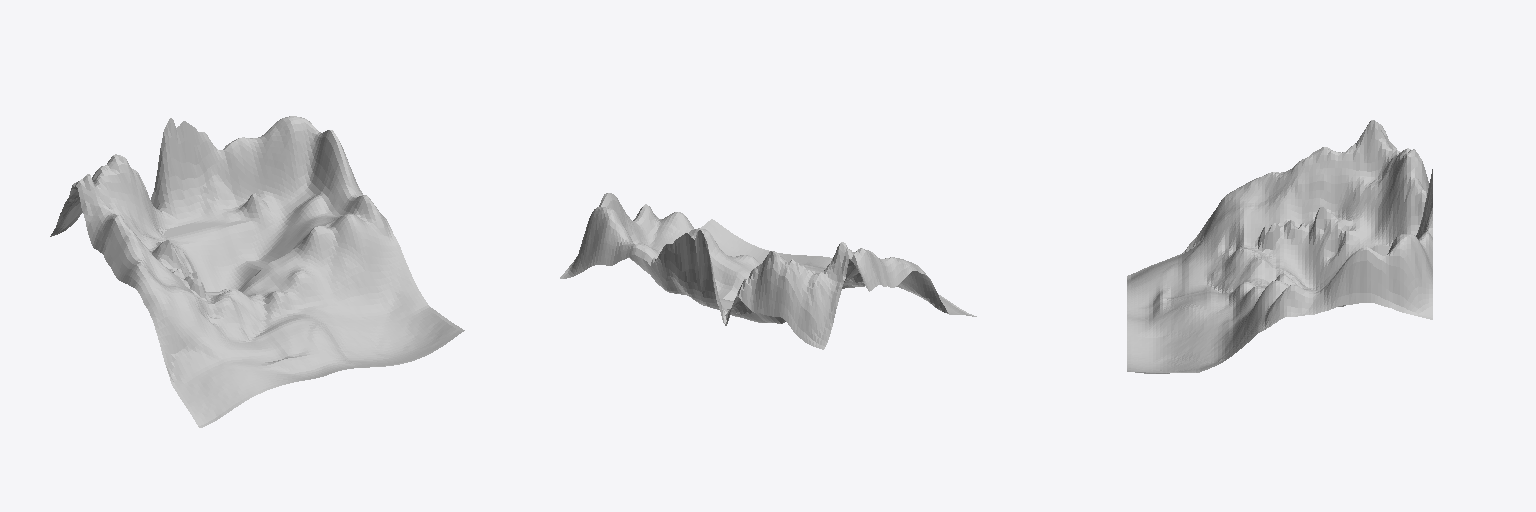
File: EnvTerrainV2UVMAPPED.obj
The picture shows the model from 3 angles: view 1: azimuth 30°, elevation 25°; view 2: azimuth 150°, elevation 25°; view 3: azimuth 270°, elevation 25°; orthographic projection.
Visible parts, largest first — view 1: EnvTerrainV2:Mesh; view 2: EnvTerrainV2:Mesh; view 3: EnvTerrainV2:Mesh.
Boxes of the visible parts, box(x1,y1,x2,y2) form: EnvTerrainV2:Mesh: box(50, 116, 464, 427); EnvTerrainV2:Mesh: box(560, 193, 976, 349); EnvTerrainV2:Mesh: box(1127, 120, 1432, 373).
Size of the model in its own units: 1000 by 608 by 1000.